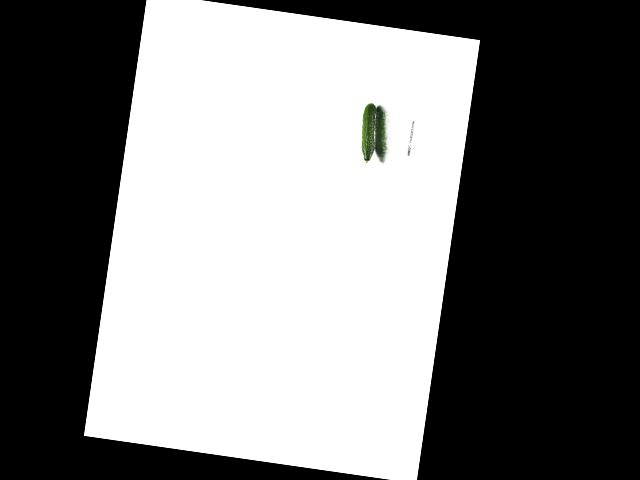cucumber: (356, 103, 381, 164)
